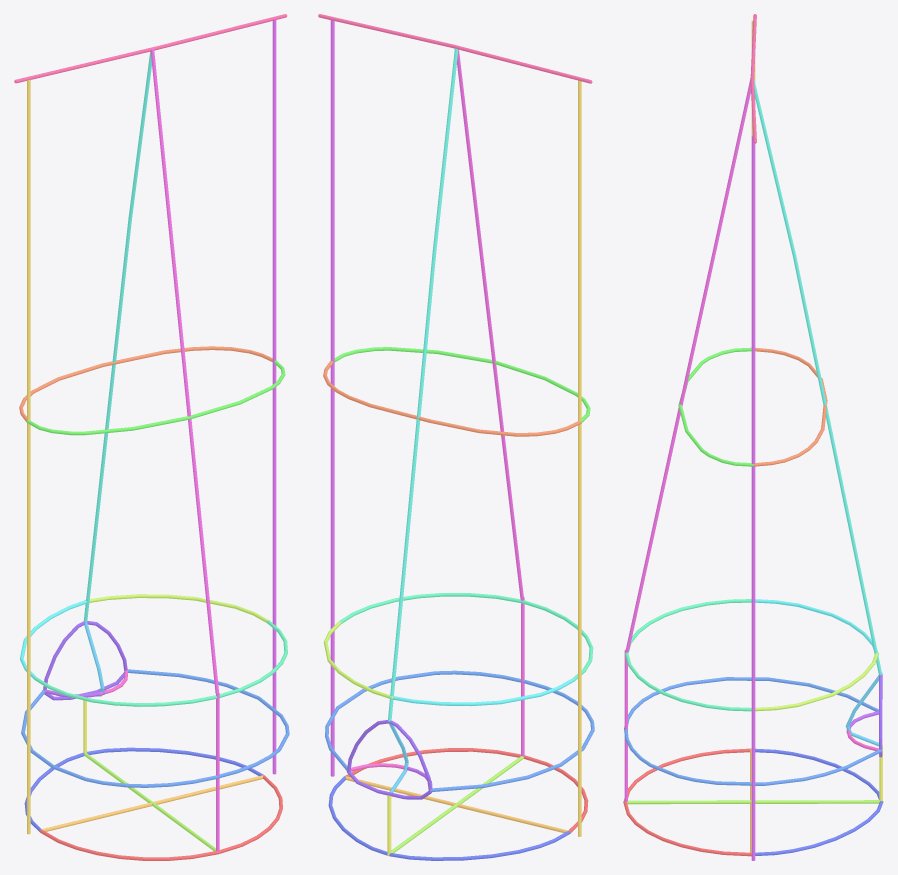
Rendered from t2f_toothpaste.gltf.
3 renders of one model, left to right at view 1: azimuth 30°, elevation 25°; view 2: azimuth 150°, elevation 25°; view 3: azimuth 270°, elevation 25°, orthographic. The views are drawn at different scales.
Size of the model in its own units: 0.3386 by 0.9003 by 0.2919.
